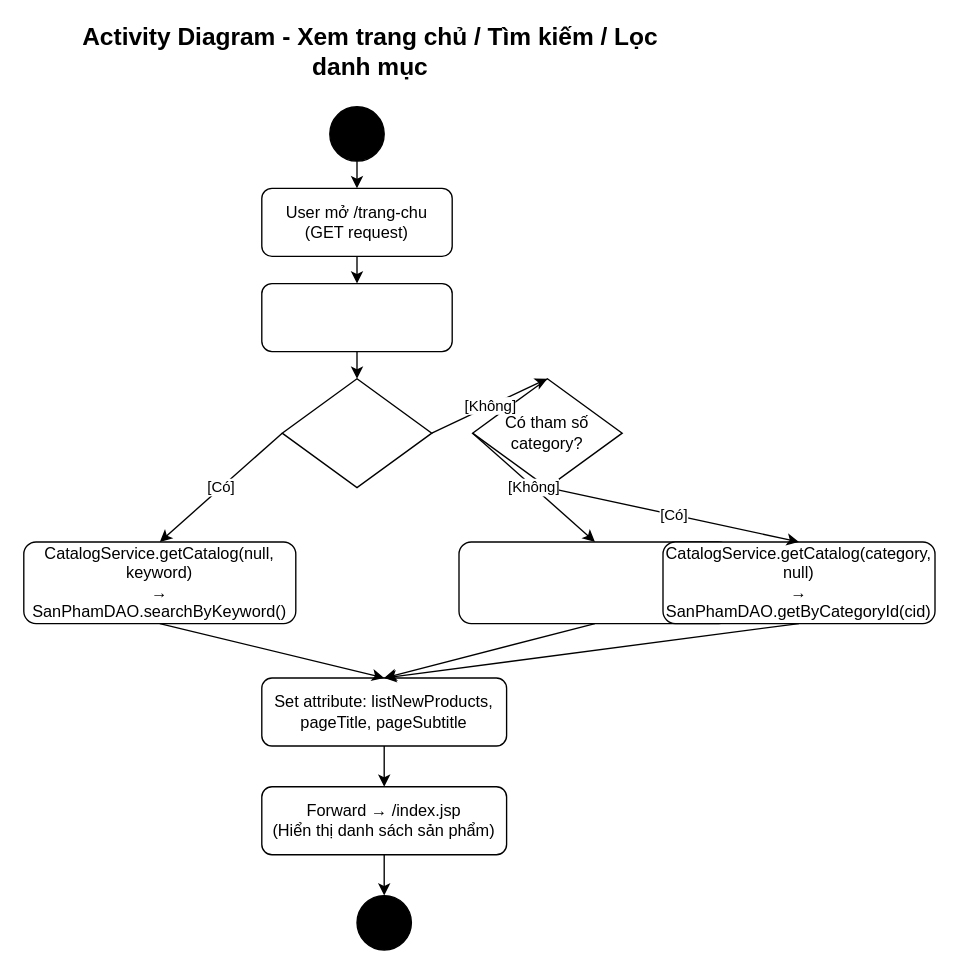
This 959x974 diagram has some shape labels left out. The shapes that lost their labels are listed below. From the top down, each one's centre as x and y in pixels, then its label:
the point at 356,317: TrangChuServlet nhận request
the point at 356,432: Có tham số keyword?
the point at 594,582: CatalogService.getCatalog(null, null) → SanPhamDAO.getAll()
